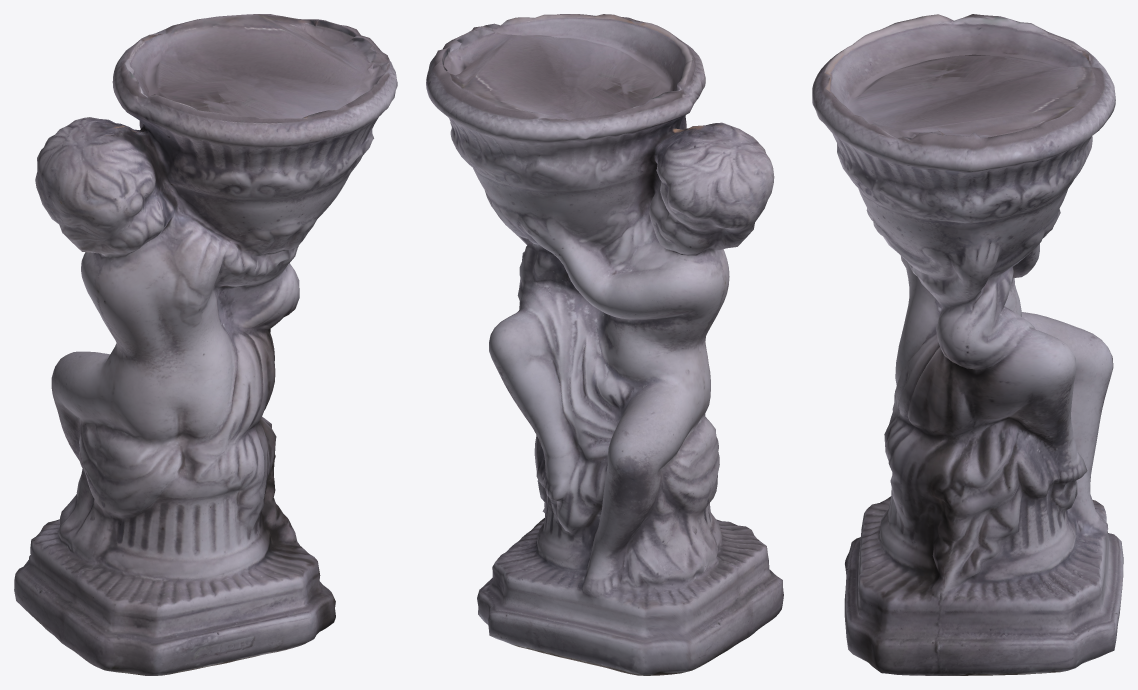
File: angelStatue_lp.obj
3 renders of one model, left to right at view 1: azimuth 30°, elevation 25°; view 2: azimuth 150°, elevation 25°; view 3: azimuth 270°, elevation 25°, orthographic. The views are drawn at different scales.
Visible parts, largest first — view 1: angelStatue_lp; view 2: angelStatue_lp; view 3: angelStatue_lp.
Part boxes in pixels (left/top/right/bottom): angelStatue_lp: left=14, top=14, right=397, bottom=675; angelStatue_lp: left=426, top=14, right=783, bottom=675; angelStatue_lp: left=812, top=14, right=1123, bottom=675.
Bounding box in the file's own units: 1.08 × 1.72 × 0.8272.
1 material, 1 textured.
